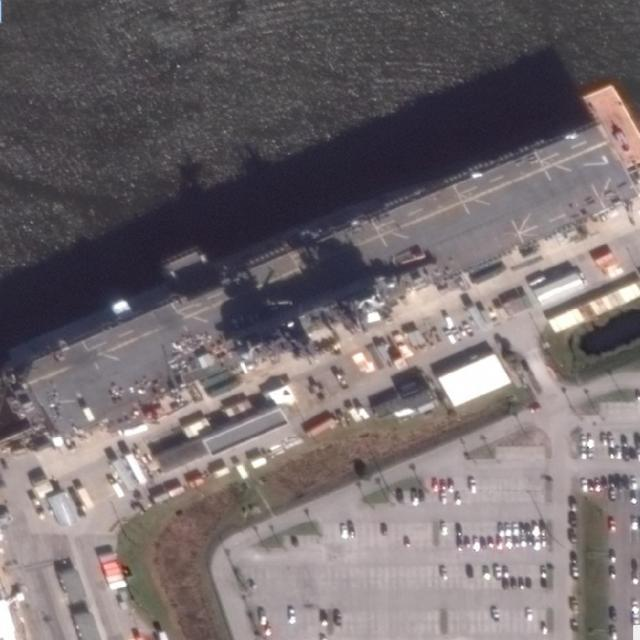Landing: (4, 119, 633, 438)
